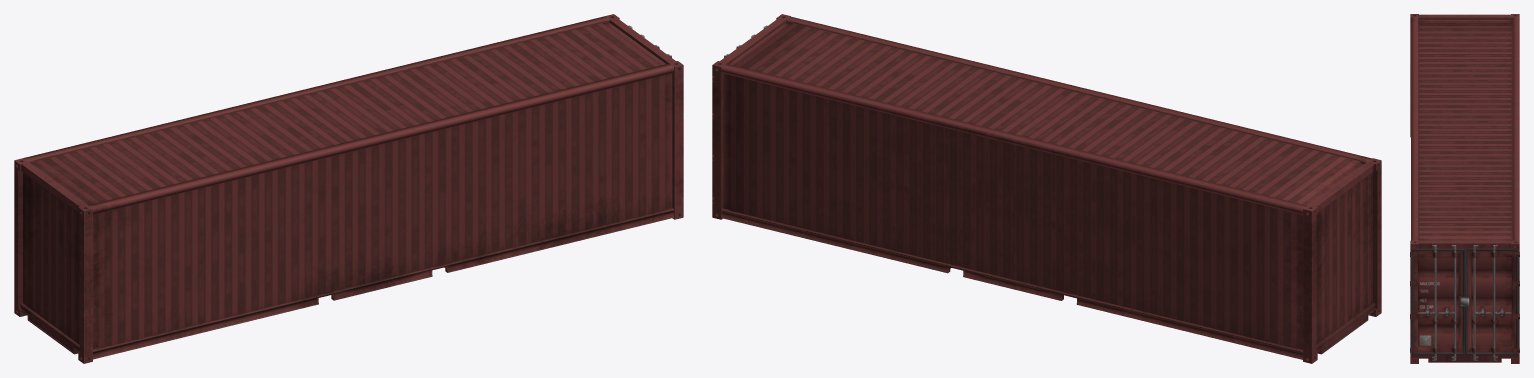
File: 12m_dark_red.glb
3 views of the same model, side by side, from view 1: azimuth 30°, elevation 25°; view 2: azimuth 150°, elevation 25°; view 3: azimuth 270°, elevation 25° (orthographic). The views are drawn at different scales.
Visible parts, largest first — view 1: Object_104; view 2: Object_104; view 3: Object_104.
Part boxes in pixels (<box>): Object_104: <box>14,14,683,363</box>; Object_104: <box>712,14,1381,363</box>; Object_104: <box>1410,14,1519,363</box>.
Size of the model in its own units: 12.07 by 2.92 by 2.43.
Materials: 1 (1 with a texture image).
